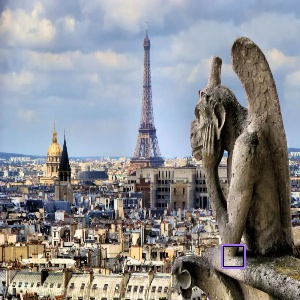square: (221, 243, 246, 269)
